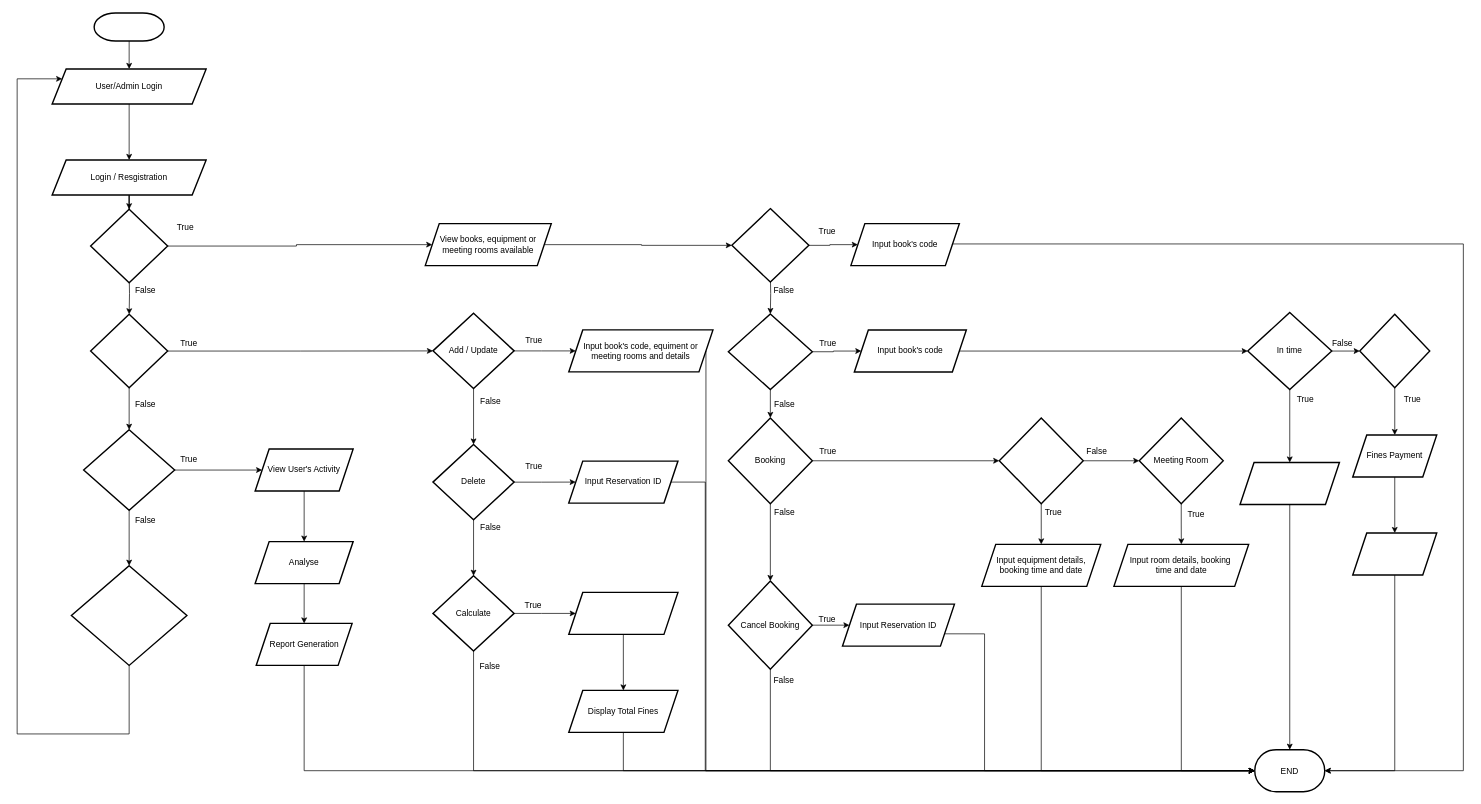
This 1481x804 diagram has some shape labels left out. Here are the shapes that lost their labels. From the top down, the centre of each, then its label:
At point 128,26: "START".
At point 129,245: "User".
At point 770,245: "Borrow Book".
At point 129,350: "Librarian".
At point 770,351: "Return book".
At point 1394,350: "Overdue".
At point 129,470: "Admin".
At point 1041,460: "Equipment".
At point 1289,483: "Display Return Confirmation".
At point 1394,553: "Receipt".
At point 128,615: "Incorrect User Name or Password".
At point 623,613: "Input User ID".
